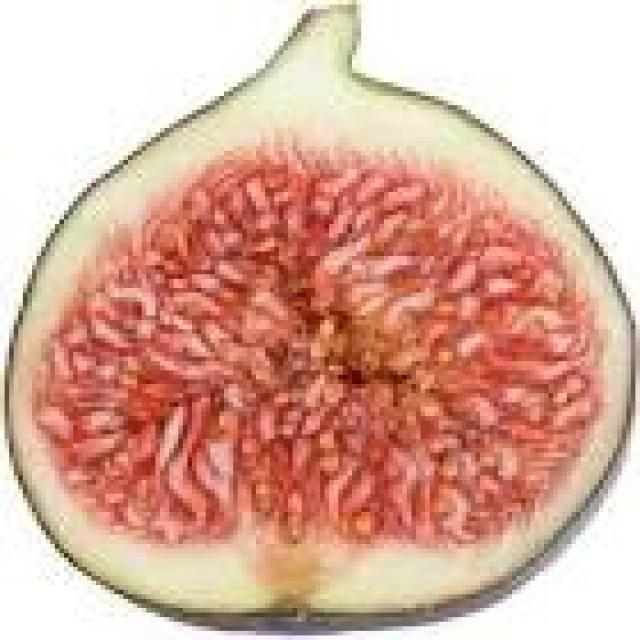Fig: (4, 4, 640, 640)
